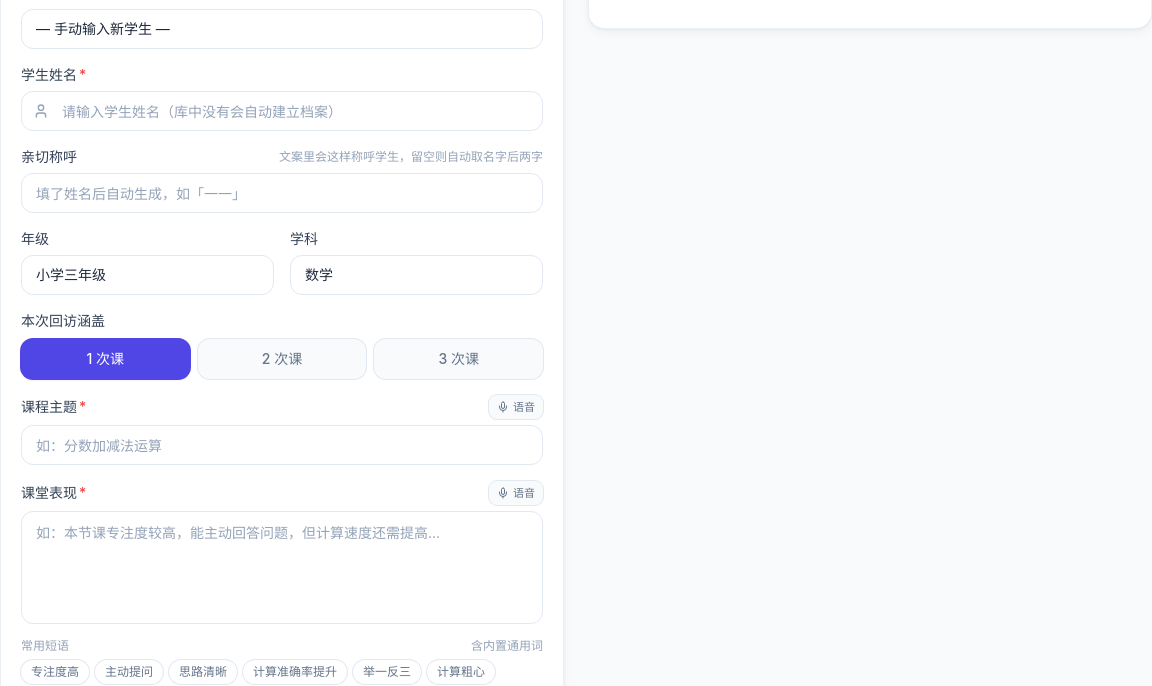
Test: 课后回访 · 课次选择器 › 选择 3 次课后出现阶段性提示，且主题标签随之变化
The width and height of the screenshot is (1152, 686).
(page scrolled)
Step 1. Click the button "3 次课" → coordinates (459, 359), box x1=374 y1=339 x2=543 y2=379
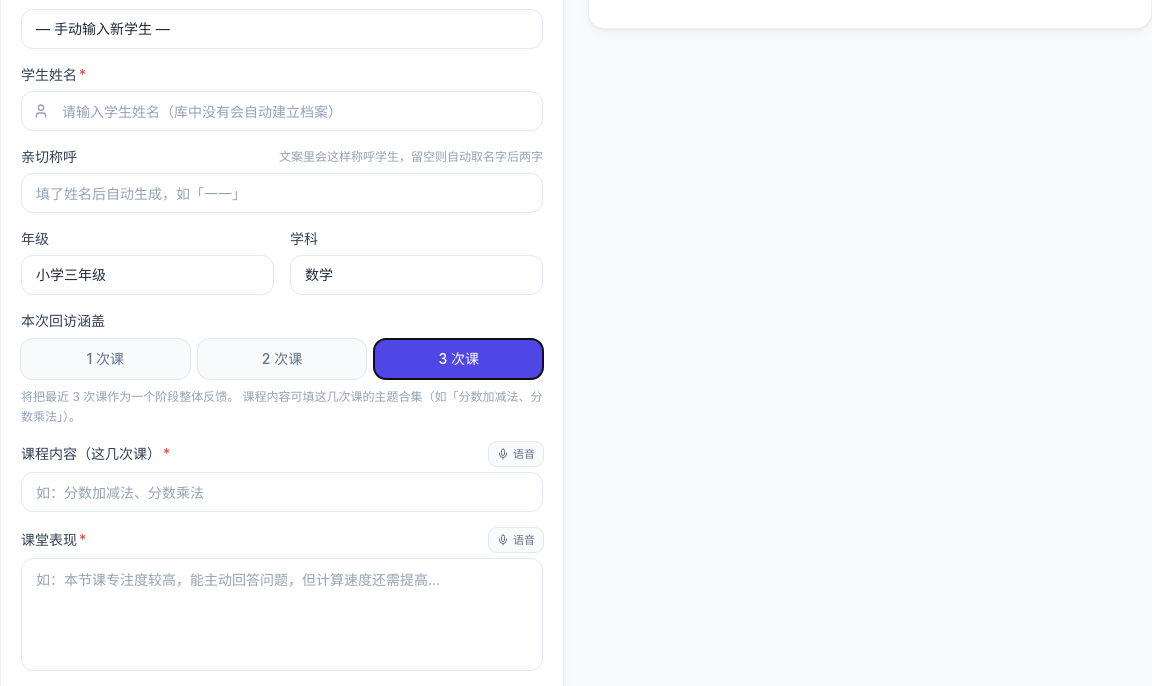
Expected: the field labelled "课程内容（这几次课）*" is shown, x1=21 y1=472 x2=543 y2=512
Result: the text "将把最近 3 次课作为一个阶段整体反馈。 课程内容可填这几次课的主题合集（如「分数加减法、分数乘法」）。" is shown at x1=21 y1=387 x2=543 y2=426
